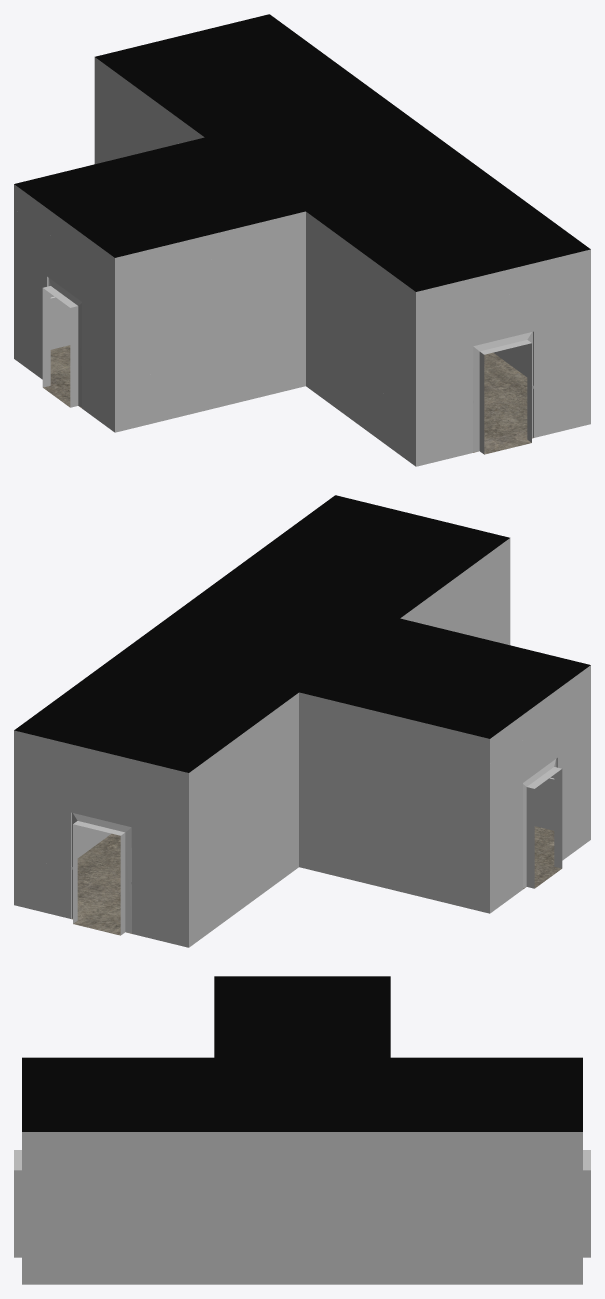
The model's file is T-Intersection_2x3.FBX.
3 views of the same model, one above another, from view 1: azimuth 30°, elevation 25°; view 2: azimuth 150°, elevation 25°; view 3: azimuth 270°, elevation 25° (orthographic). The views are drawn at different scales.
Visible parts, largest first — view 1: T-Intersection_2x3; view 2: T-Intersection_2x3; view 3: T-Intersection_2x3.
Part boxes in pixels (box(x1,y1,x2,y2)): T-Intersection_2x3: box(14, 14, 590, 466); T-Intersection_2x3: box(14, 495, 590, 947); T-Intersection_2x3: box(14, 976, 590, 1284).
Size of what is drawn, in the model's own units: 925 by 413 by 1417.
